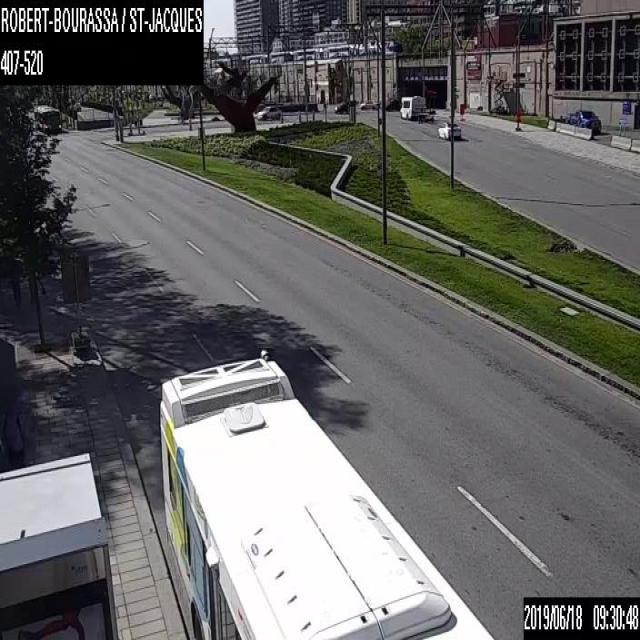bus: (158, 348, 496, 639), (34, 102, 62, 134), (397, 93, 425, 119)
vehicle: (568, 108, 602, 134), (435, 120, 463, 140), (255, 104, 282, 120), (332, 98, 354, 114), (359, 99, 376, 109)
